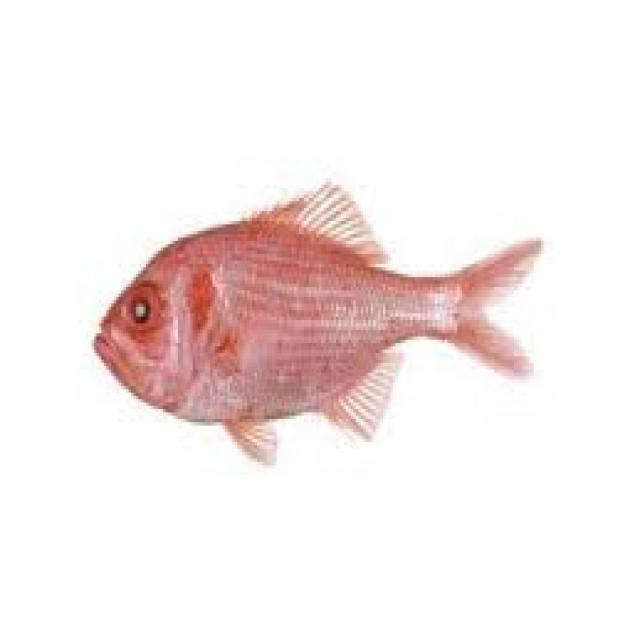northern-red-snapper: (83, 167, 551, 460)
